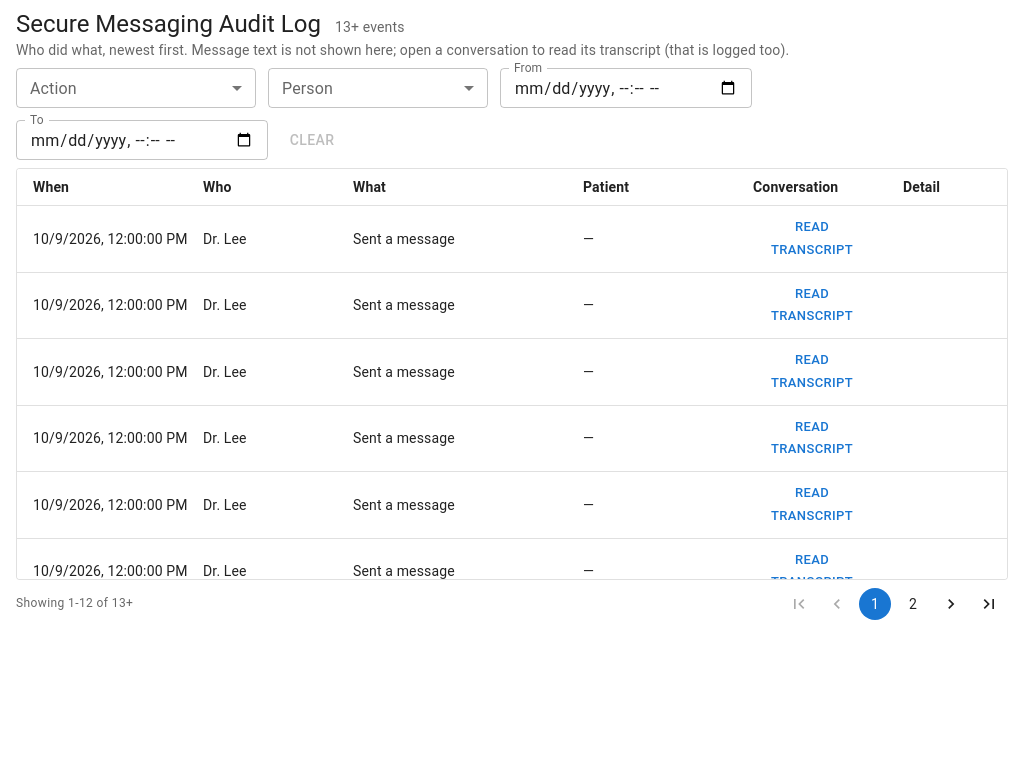
Test: reaching the last loaded page fetches older events with the last id
expect the row with test id "audit-row-20" is shown: met, box 17,206 -> 1007,272
expect the text with test id "audit-range" reads "Showing 1-12 of 13+": met, box 16,594 -> 133,614
Click the button named "go to page 2" at {"x": 913, "y": 604}, box 897,588 -> 929,620
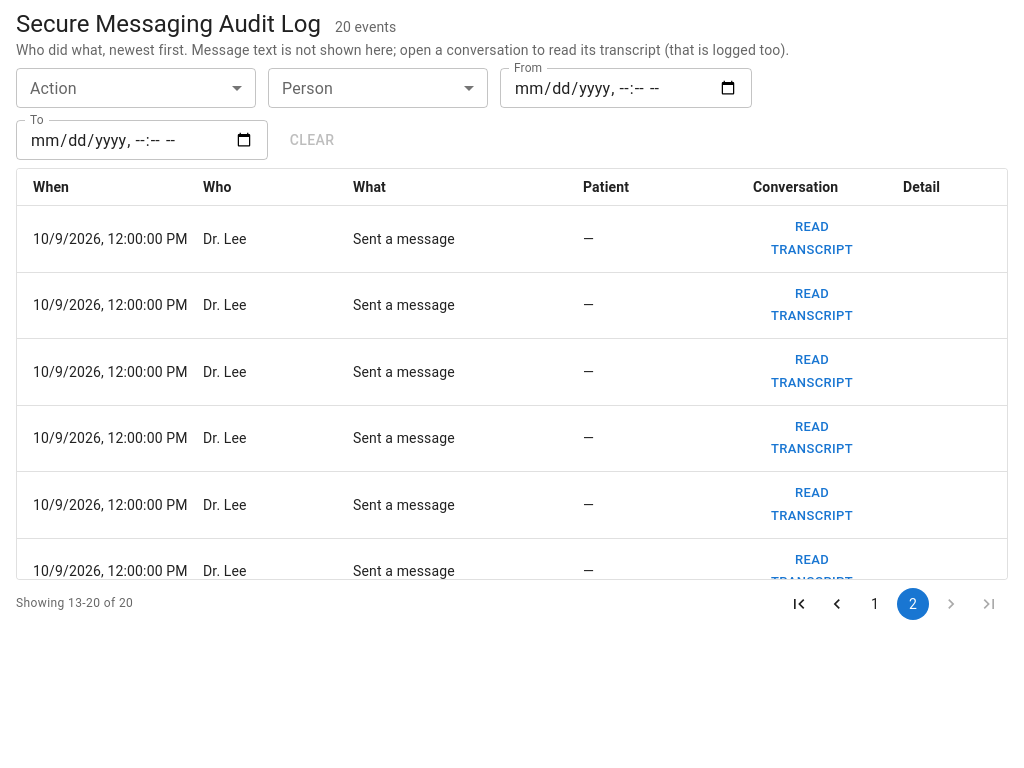
expect the text with test id "audit-range" does not show "20+": met, box 16,594 -> 133,614
expect the text with test id "audit-range" shows "of 20": met, box 16,594 -> 133,614
